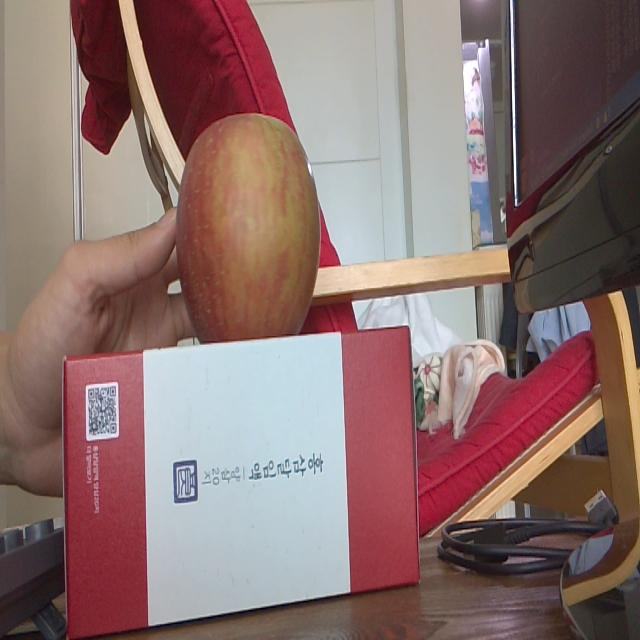apple: (175, 111, 323, 347)
